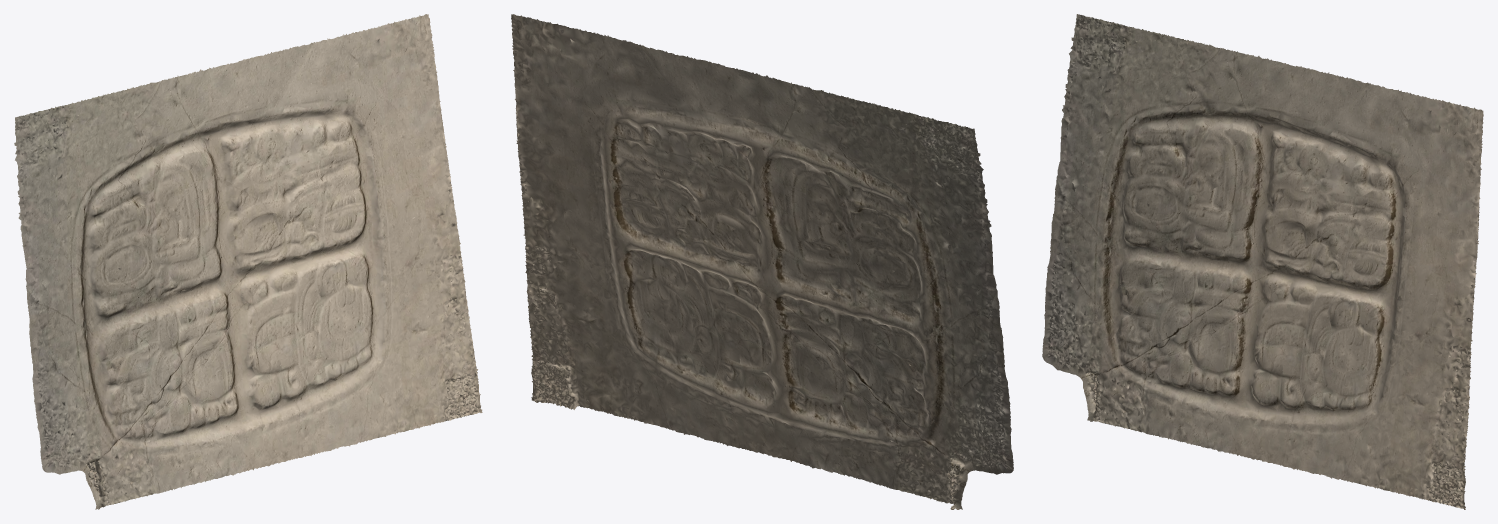
File: glyph-panel.glb
3 views of the same model, side by side, from view 1: azimuth 30°, elevation 25°; view 2: azimuth 150°, elevation 25°; view 3: azimuth 330°, elevation 25° (orthographic). The views are drawn at different scales.
Visible parts, largest first — view 1: Object_2; view 2: Object_2; view 3: Object_2.
Boxes of the visible parts, <box> form: Object_2: <box>14,14,482,509</box>; Object_2: <box>511,14,1013,509</box>; Object_2: <box>1042,14,1483,509</box>.
Bounding box in the file's own units: 4.17 × 3.47 × 0.6366.
Materials: 1 (1 with a texture image).
